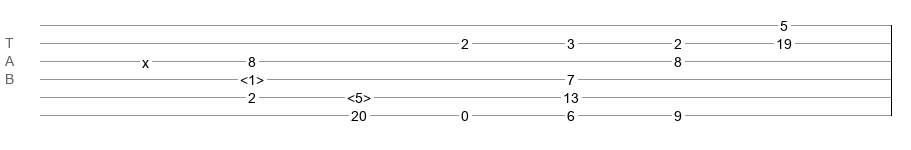0: (461, 108, 469, 118)
13: (563, 90, 579, 100)
19: (776, 36, 792, 46)
2: (248, 90, 256, 100), (461, 36, 469, 46), (674, 36, 682, 46)
20: (351, 108, 367, 118)
3: (567, 36, 575, 46)
5: (780, 18, 788, 28)
6: (567, 108, 575, 118)
7: (567, 72, 575, 82)
8: (248, 54, 256, 64), (674, 54, 682, 64)
9: (674, 108, 682, 118)
harmonic: (240, 72, 264, 82), (347, 90, 371, 100)
x: (142, 55, 149, 63)
